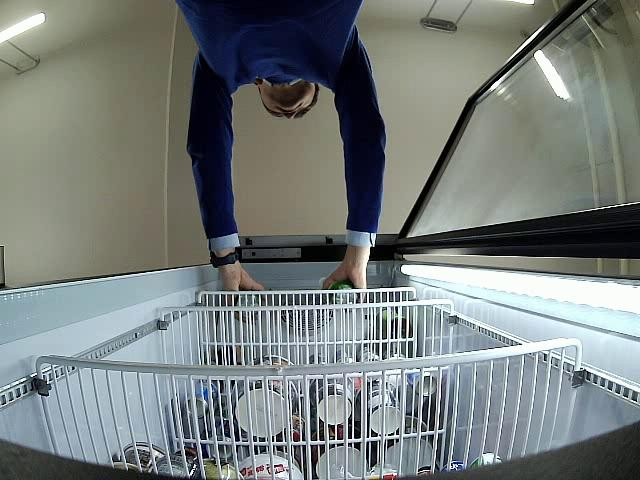00_hand: (220, 267, 268, 322), (323, 248, 370, 302)
18_trevi: (320, 277, 360, 311), (238, 290, 263, 322)
